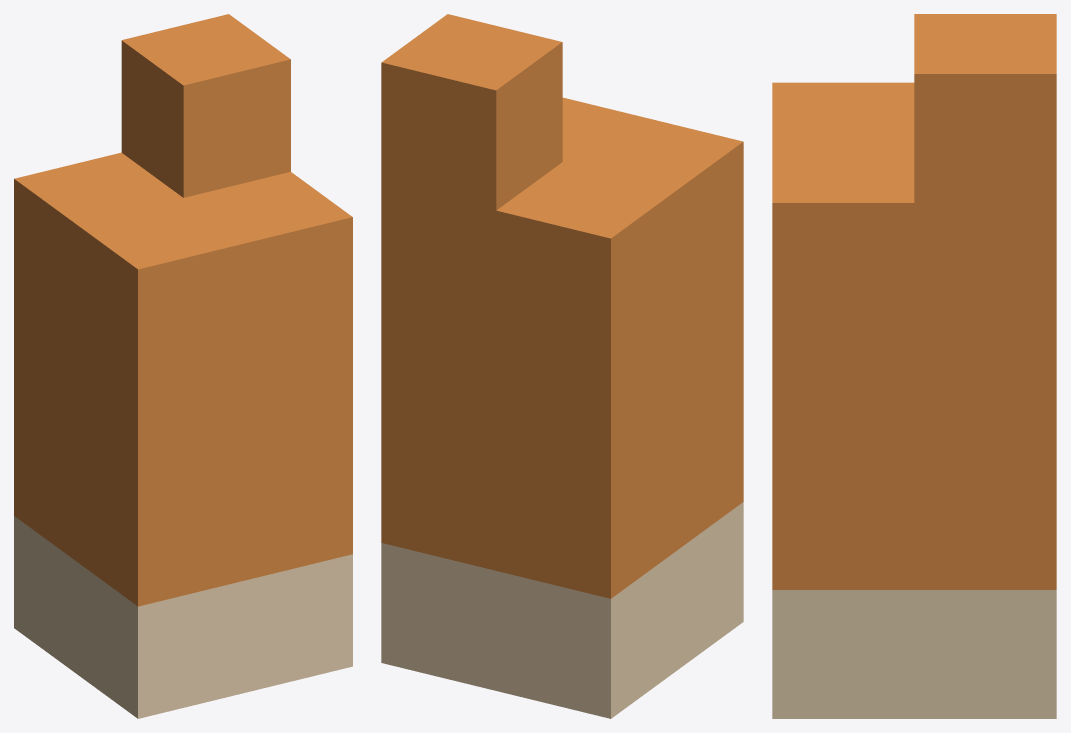
File: cat__leg_bl.glb
3 views of the same model, side by side, from view 1: azimuth 30°, elevation 25°; view 2: azimuth 150°, elevation 25°; view 3: azimuth 270°, elevation 25° (orthographic). The views are drawn at different scales.
Parts seen in each view (by area): view 1: cat__leg_bl; view 2: cat__leg_bl; view 3: cat__leg_bl.
Part boxes in pixels (x1,y1,x2,y2): cat__leg_bl: (14, 14, 352, 718); cat__leg_bl: (381, 14, 743, 718); cat__leg_bl: (772, 14, 1056, 718).
Bounding box in the file's own units: 0.2 × 0.5 × 0.2.
Materials: 1 (1 with a texture image).
